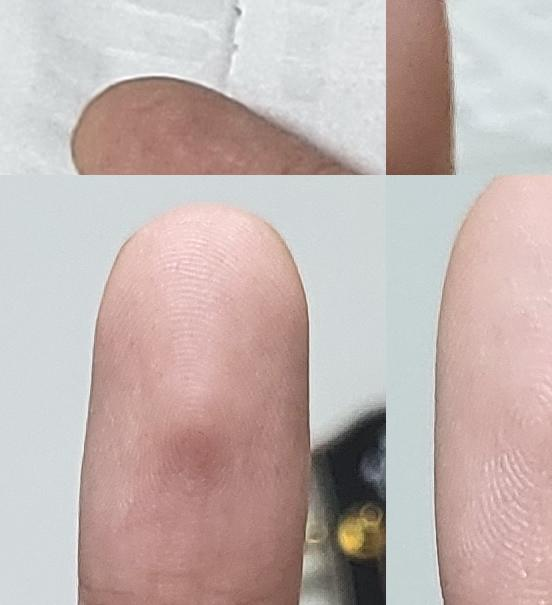Fingerprints: (79, 200, 311, 605), (434, 175, 552, 605), (71, 77, 310, 175), (386, 0, 453, 163)
